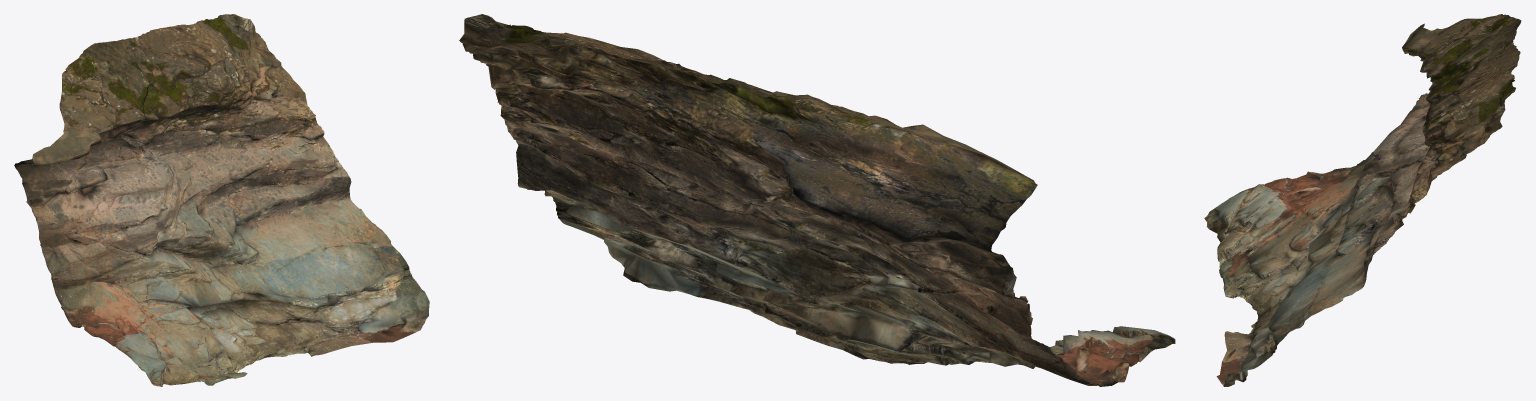
Rendered from rock-face.glb.
3 renders of one model, left to right at view 1: azimuth 30°, elevation 25°; view 2: azimuth 150°, elevation 25°; view 3: azimuth 270°, elevation 25°, orthographic. The views are drawn at different scales.
Parts seen in each view (by area): view 1: rock_face_01; view 2: rock_face_01; view 3: rock_face_01.
Boxes of the visible parts, box(x1,y1,x2,y2) form: rock_face_01: box(14, 14, 429, 386); rock_face_01: box(459, 14, 1175, 386); rock_face_01: box(1204, 14, 1521, 386).
Bounding box in the file's own units: 4.95 × 3.57 × 3.83.
1 material, 1 textured.
